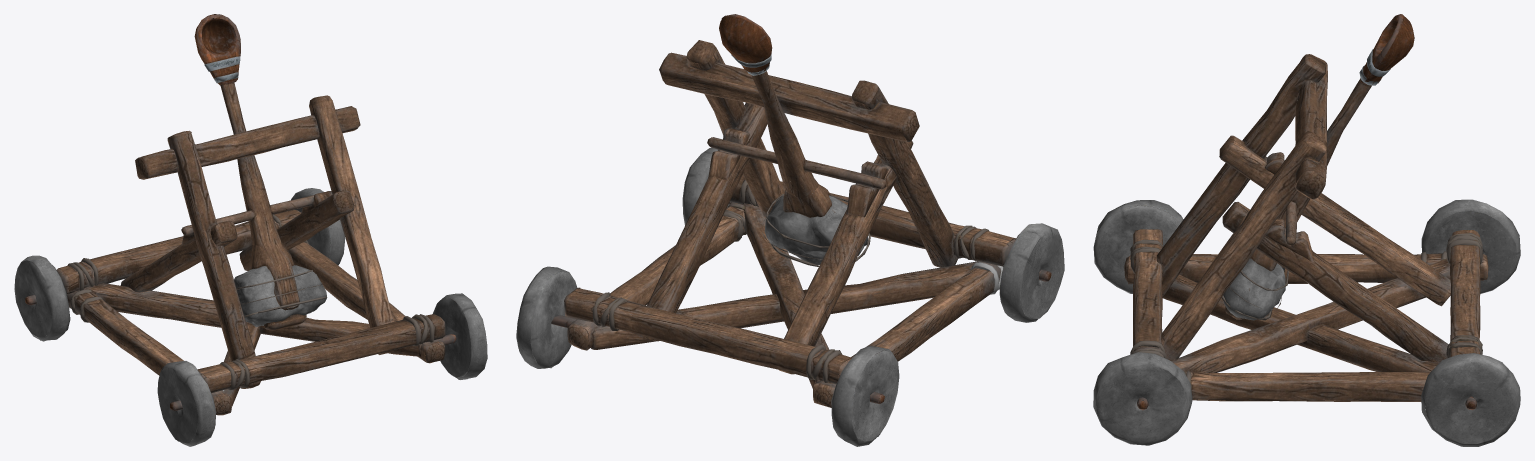
File: catapult_wood.glb
The picture shows the model from 3 angles, left to right: view 1: azimuth 30°, elevation 25°; view 2: azimuth 150°, elevation 25°; view 3: azimuth 270°, elevation 25°; orthographic projection. The views are drawn at different scales.
Visible parts, largest first — view 1: defaultMaterial; view 2: defaultMaterial; view 3: defaultMaterial.
Part boxes in pixels (x1,y1,x2,y2): defaultMaterial: (14,14,487,446); defaultMaterial: (516,14,1064,446); defaultMaterial: (1093,14,1520,446).
Bounding box in the file's own units: 1.86 × 1.83 × 2.
1 material, 1 textured.
